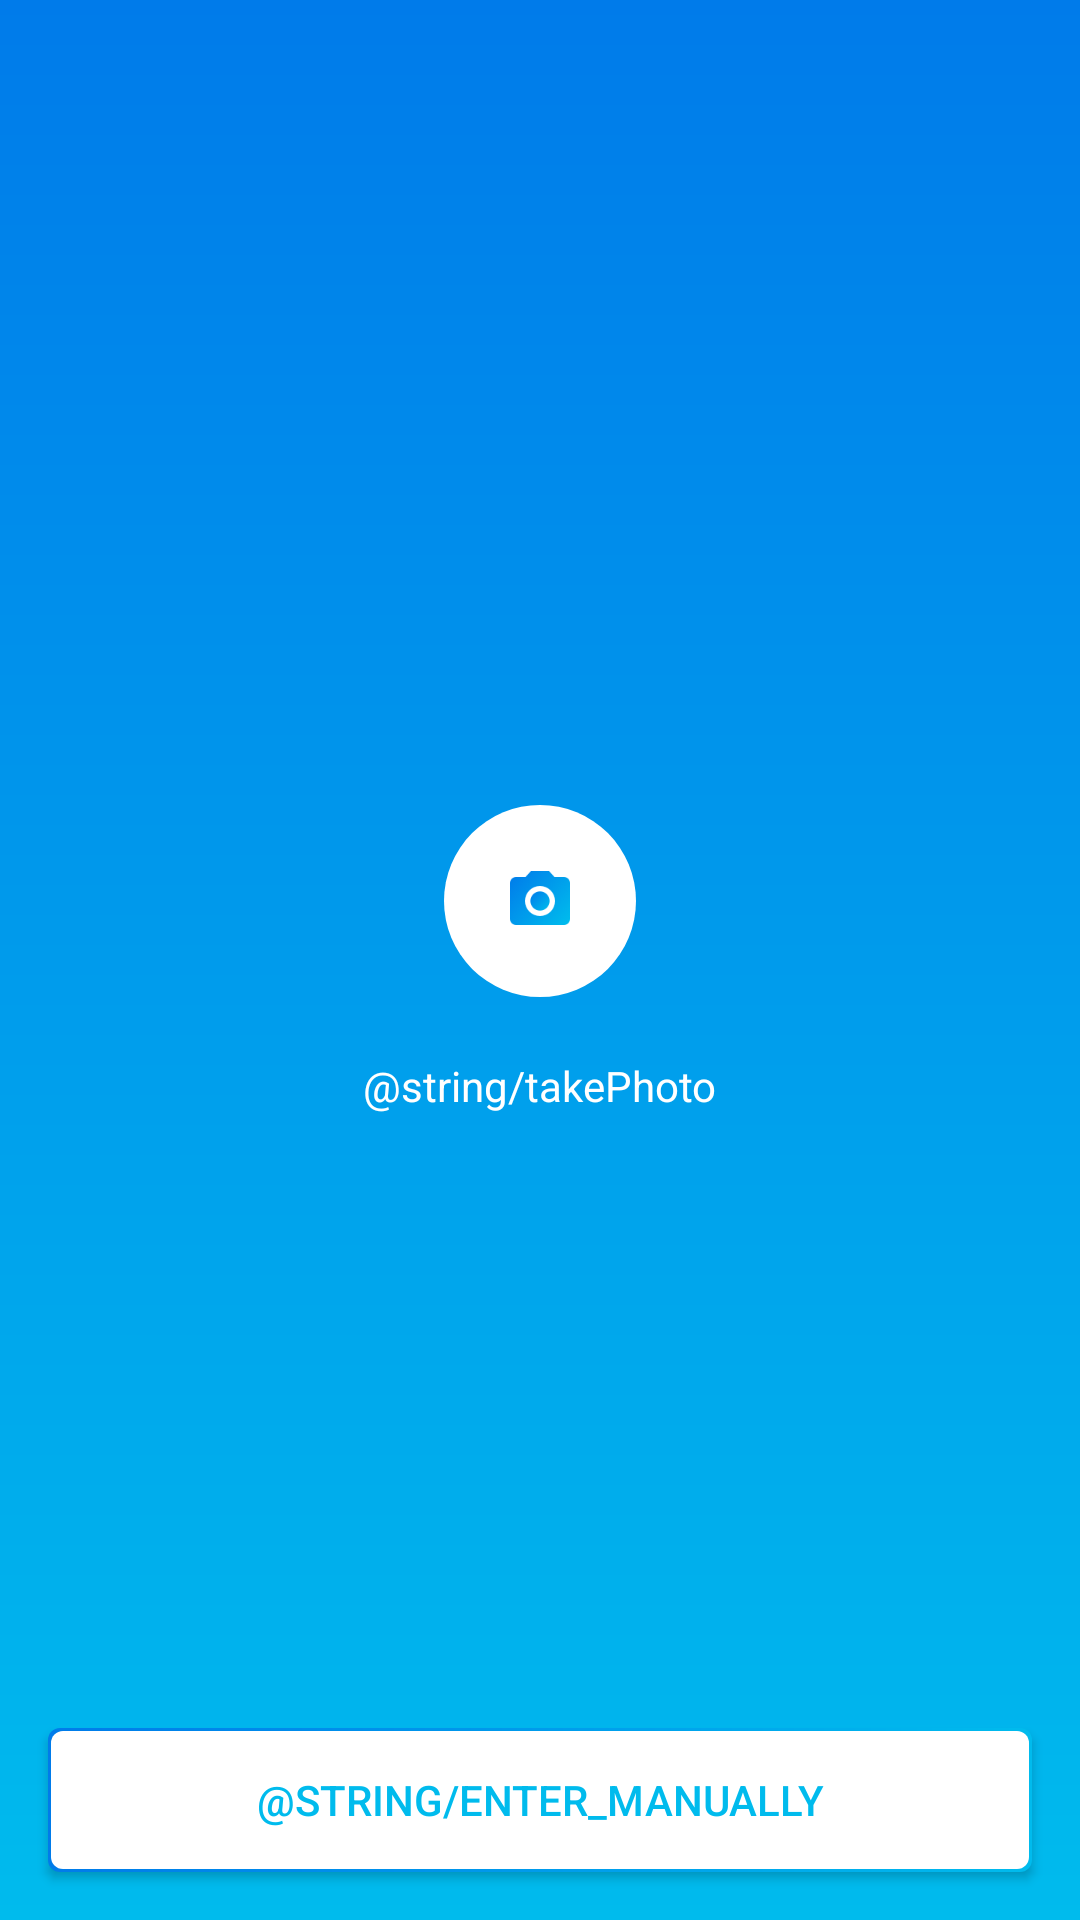

Screen size 1080 x 1920. Icon name, then its center in pixels as point (x, y):
camera: point (540, 901)
